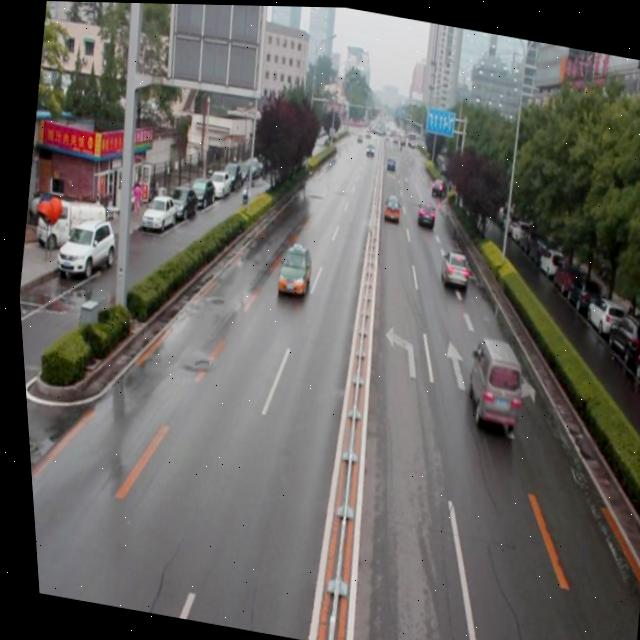car: (268, 237, 313, 295), (432, 244, 469, 288), (409, 196, 434, 228), (378, 190, 400, 222), (425, 174, 446, 200)
truck: (453, 332, 525, 430)
